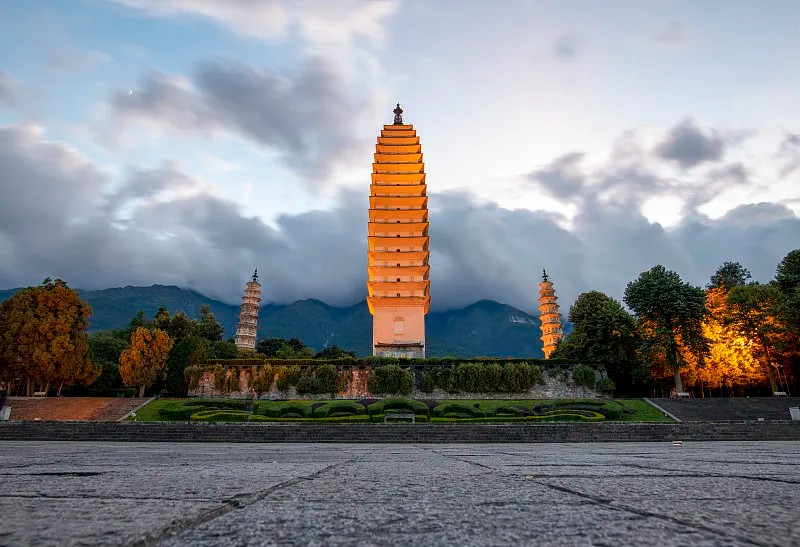ThreePagoda: (365, 102, 431, 358)
